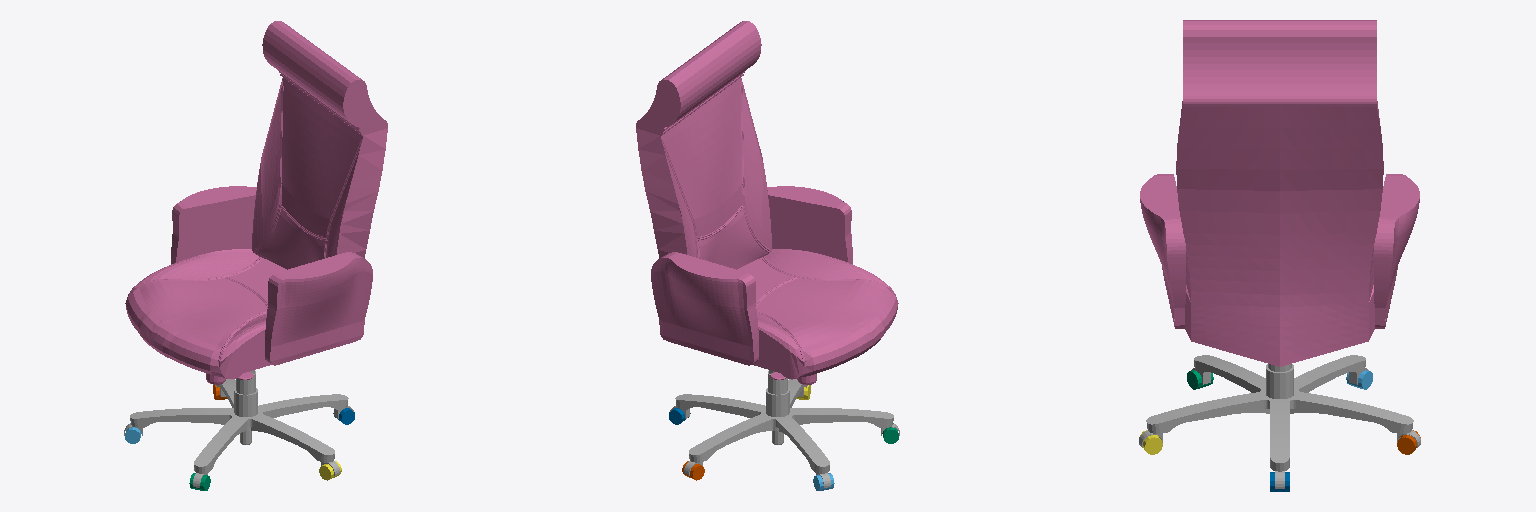
The robot description file, URDF, robot "partnet_22ae801d650a1e3d492d9da2668ec34c":
<?xml version="1.0" encoding="utf-8"?>
<robot name="partnet_22ae801d650a1e3d492d9da2668ec34c">
 <link name="base"/>
 <link name="link_0">
  <visual name="wheel-56">
   <origin xyz="0.34652284786575827 0.806945263874729 -0.4769284756405053"/>
   <geometry>
    <mesh filename="textured_objs/original-29.obj"/>
   </geometry>
  </visual>
  <collision>
   <geometry>
    <mesh filename="cvx_objs/link_0.obj"/>
   </geometry>
  </collision>
 </link>
 <joint name="joint_0" type="continuous">
  <origin xyz="-0.34652284786575827 -0.806945263874729 0.4769284756405053"/>
  <axis xyz="-0.809011250551875 6.90381693601011e-06 -0.5877931578649318"/>
  <child link="link_0"/>
  <parent link="link_6"/>
 </joint>
 <link name="link_1">
  <visual name="wheel-35">
   <origin xyz="-0.35026702881382443 0.8069443455694046 -0.48207817975971623"/>
   <geometry>
    <mesh filename="textured_objs/original-36.obj"/>
   </geometry>
  </visual>
  <collision>
   <geometry>
    <mesh filename="cvx_objs/link_1.obj"/>
   </geometry>
  </collision>
 </link>
 <joint name="joint_1" type="continuous">
  <origin xyz="0.35026702881382443 -0.8069443455694046 0.48207817975971623"/>
  <axis xyz="-0.8090172420051733 -1.7098029128681026e-05 0.587784911209875"/>
  <child link="link_1"/>
  <parent link="link_6"/>
 </joint>
 <link name="link_2">
  <visual name="wheel-32">
   <origin xyz="-0.40813013729370373 0.8069459999999999 0.13261478500573382"/>
   <geometry>
    <mesh filename="textured_objs/original-20.obj"/>
   </geometry>
  </visual>
  <collision>
   <geometry>
    <mesh filename="cvx_objs/link_2.obj"/>
   </geometry>
  </collision>
 </link>
 <joint name="joint_2" type="continuous">
  <origin xyz="0.40813013729370373 -0.8069459999999999 -0.13261478500573382"/>
  <axis xyz="-0.3090280998843664 -3.039844984141635e-16 -0.9510529078247215"/>
  <child link="link_2"/>
  <parent link="link_6"/>
 </joint>
 <link name="link_3">
  <visual name="wheel-29">
   <origin xyz="0 0.8069459999999999 0.31971099999999997"/>
   <geometry>
    <mesh filename="textured_objs/original-15.obj"/>
   </geometry>
  </visual>
  <collision>
   <geometry>
    <mesh filename="cvx_objs/link_3.obj"/>
   </geometry>
  </collision>
 </link>
 <joint name="joint_3" type="continuous">
  <origin xyz="0 -0.8069459999999999 -0.31971099999999997"/>
  <axis xyz="1 0 0"/>
  <child link="link_3"/>
  <parent link="link_6"/>
 </joint>
 <link name="link_4">
  <visual name="wheel-26">
   <origin xyz="0.3983387438320876 0.806946909866721 0.1294209976183839"/>
   <geometry>
    <mesh filename="textured_objs/original-16.obj"/>
   </geometry>
  </visual>
  <collision>
   <geometry>
    <mesh filename="cvx_objs/link_4.obj"/>
   </geometry>
  </collision>
 </link>
 <joint name="joint_4" type="continuous">
  <origin xyz="-0.3983387438320876 -0.806946909866721 -0.1294209976183839"/>
  <axis xyz="0.30902018894976174 -1.0121517192653198e-05 -0.9510554782550852"/>
  <child link="link_4"/>
  <parent link="link_6"/>
 </joint>
 <link name="link_5">
  <visual name="back_soft_surface-58">
   <origin xyz="-0.0054155 0 -0.1509095"/>
   <geometry>
    <mesh filename="textured_objs/new-7.obj"/>
   </geometry>
  </visual>
  <visual name="arm_sofa_style-49">
   <origin xyz="-0.0054155 0 -0.1509095"/>
   <geometry>
    <mesh filename="textured_objs/original-11.obj"/>
   </geometry>
  </visual>
  <visual name="arm_sofa_style-48">
   <origin xyz="-0.0054155 0 -0.1509095"/>
   <geometry>
    <mesh filename="textured_objs/original-12.obj"/>
   </geometry>
  </visual>
  <visual name="seat_soft_surface-47">
   <origin xyz="-0.0054155 0 -0.1509095"/>
   <geometry>
    <mesh filename="textured_objs/new-6.obj"/>
   </geometry>
  </visual>
  <visual name="seat_support-44">
   <origin xyz="-0.0054155 0 -0.1509095"/>
   <geometry>
    <mesh filename="textured_objs/original-2.obj"/>
   </geometry>
  </visual>
  <visual name="other_leaf-42">
   <origin xyz="-0.0054155 0 -0.1509095"/>
   <geometry>
    <mesh filename="textured_objs/original-33.obj"/>
   </geometry>
  </visual>
  <visual name="other_leaf-42">
   <origin xyz="-0.0054155 0 -0.1509095"/>
   <geometry>
    <mesh filename="textured_objs/original-34.obj"/>
   </geometry>
  </visual>
  <visual name="other_leaf-41">
   <origin xyz="-0.0054155 0 -0.1509095"/>
   <geometry>
    <mesh filename="textured_objs/original-26.obj"/>
   </geometry>
  </visual>
  <visual name="other_leaf-41">
   <origin xyz="-0.0054155 0 -0.1509095"/>
   <geometry>
    <mesh filename="textured_objs/original-27.obj"/>
   </geometry>
  </visual>
  <visual name="other_leaf-46">
   <origin xyz="-0.0054155 0 -0.1509095"/>
   <geometry>
    <mesh filename="textured_objs/original-23.obj"/>
   </geometry>
  </visual>
  <collision>
   <geometry>
    <mesh filename="cvx_objs/link_5.obj"/>
   </geometry>
  </collision>
 </link>
 <joint name="joint_5" type="continuous">
  <origin xyz="0.0 0 0.0"/>
  <axis xyz="0 1 0"/>
  <child link="link_5"/>
  <parent link="link_5_helper"/>
 </joint>
 <link name="link_6">
  <visual name="central_support-8">
   <origin xyz="0 0 0"/>
   <geometry>
    <mesh filename="textured_objs/original-3.obj"/>
   </geometry>
  </visual>
  <visual name="central_support-8">
   <origin xyz="0 0 0"/>
   <geometry>
    <mesh filename="textured_objs/original-9.obj"/>
   </geometry>
  </visual>
  <visual name="central_support-8">
   <origin xyz="0 0 0"/>
   <geometry>
    <mesh filename="textured_objs/new-5.obj"/>
   </geometry>
  </visual>
  <visual name="leg-10">
   <origin xyz="0 0 0"/>
   <geometry>
    <mesh filename="textured_objs/new-4.obj"/>
   </geometry>
  </visual>
  <visual name="leg-10">
   <origin xyz="0 0 0"/>
   <geometry>
    <mesh filename="textured_objs/original-8.obj"/>
   </geometry>
  </visual>
  <visual name="leg-10">
   <origin xyz="0 0 0"/>
   <geometry>
    <mesh filename="textured_objs/original-10.obj"/>
   </geometry>
  </visual>
  <visual name="leg-11">
   <origin xyz="0 0 0"/>
   <geometry>
    <mesh filename="textured_objs/new-3.obj"/>
   </geometry>
  </visual>
  <visual name="leg-11">
   <origin xyz="0 0 0"/>
   <geometry>
    <mesh filename="textured_objs/original-25.obj"/>
   </geometry>
  </visual>
  <visual name="leg-11">
   <origin xyz="0 0 0"/>
   <geometry>
    <mesh filename="textured_objs/original-24.obj"/>
   </geometry>
  </visual>
  <visual name="leg-12">
   <origin xyz="0 0 0"/>
   <geometry>
    <mesh filename="textured_objs/new-2.obj"/>
   </geometry>
  </visual>
  <visual name="leg-12">
   <origin xyz="0 0 0"/>
   <geometry>
    <mesh filename="textured_objs/original-32.obj"/>
   </geometry>
  </visual>
  <visual name="leg-12">
   <origin xyz="0 0 0"/>
   <geometry>
    <mesh filename="textured_objs/original-31.obj"/>
   </geometry>
  </visual>
  <visual name="leg-13">
   <origin xyz="0 0 0"/>
   <geometry>
    <mesh filename="textured_objs/new-1.obj"/>
   </geometry>
  </visual>
  <visual name="leg-13">
   <origin xyz="0 0 0"/>
   <geometry>
    <mesh filename="textured_objs/original-5.obj"/>
   </geometry>
  </visual>
  <visual name="leg-13">
   <origin xyz="0 0 0"/>
   <geometry>
    <mesh filename="textured_objs/original-6.obj"/>
   </geometry>
  </visual>
  <visual name="leg-14">
   <origin xyz="0 0 0"/>
   <geometry>
    <mesh filename="textured_objs/new-0.obj"/>
   </geometry>
  </visual>
  <visual name="leg-14">
   <origin xyz="0 0 0"/>
   <geometry>
    <mesh filename="textured_objs/original-19.obj"/>
   </geometry>
  </visual>
  <visual name="leg-14">
   <origin xyz="0 0 0"/>
   <geometry>
    <mesh filename="textured_objs/original-7.obj"/>
   </geometry>
  </visual>
  <visual name="caster_yoke-54">
   <origin xyz="0 0 0"/>
   <geometry>
    <mesh filename="textured_objs/original-28.obj"/>
   </geometry>
  </visual>
  <visual name="caster_stem-57">
   <origin xyz="0 0 0"/>
   <geometry>
    <mesh filename="textured_objs/original-30.obj"/>
   </geometry>
  </visual>
  <visual name="caster_yoke-33">
   <origin xyz="0 0 0"/>
   <geometry>
    <mesh filename="textured_objs/original-35.obj"/>
   </geometry>
  </visual>
  <visual name="caster_stem-34">
   <origin xyz="0 0 0"/>
   <geometry>
    <mesh filename="textured_objs/original-37.obj"/>
   </geometry>
  </visual>
  <visual name="caster_yoke-30">
   <origin xyz="0 0 0"/>
   <geometry>
    <mesh filename="textured_objs/original-21.obj"/>
   </geometry>
  </visual>
  <visual name="caster_stem-31">
   <origin xyz="0 0 0"/>
   <geometry>
    <mesh filename="textured_objs/original-22.obj"/>
   </geometry>
  </visual>
  <visual name="caster_yoke-27">
   <origin xyz="0 0 0"/>
   <geometry>
    <mesh filename="textured_objs/original-13.obj"/>
   </geometry>
  </visual>
  <visual name="caster_stem-28">
   <origin xyz="0 0 0"/>
   <geometry>
    <mesh filename="textured_objs/original-14.obj"/>
   </geometry>
  </visual>
  <visual name="caster_yoke-24">
   <origin xyz="0 0 0"/>
   <geometry>
    <mesh filename="textured_objs/original-17.obj"/>
   </geometry>
  </visual>
  <visual name="caster_stem-25">
   <origin xyz="0 0 0"/>
   <geometry>
    <mesh filename="textured_objs/original-18.obj"/>
   </geometry>
  </visual>
  <collision>
   <geometry>
    <mesh filename="cvx_objs/link_6.obj"/>
   </geometry>
  </collision>
 </link>
 <joint name="joint_6" type="fixed">
  <origin rpy="1.570796326794897 0 -1.570796326794897" xyz="0 0 0"/>
  <child link="link_6"/>
  <parent link="base"/>
 </joint>
 <link name="link_5_helper"/>
 <joint name="joint_7" type="prismatic">
  <origin xyz="0.0054155 0 0.1509095"/>
  <axis xyz="0 -1 0"/>
  <child link="link_5_helper"/>
  <parent link="link_6"/>
  <limit lower="0" upper="0.1"/>
 </joint>
</robot>

--- Render facts (derived) ---
The picture shows the robot from 3 angles, left to right: view 1: azimuth 30°, elevation 25°; view 2: azimuth 150°, elevation 25°; view 3: azimuth 270°, elevation 25°; orthographic projection.
Model partnet_22ae801d650a1e3d492d9da2668ec34c with 9 links and 8 joints (6 continuous, 1 prismatic, 1 fixed), rooted at base, posed every joint at zero.
Visible links, largest first — view 1: link_5, link_6; view 2: link_5, link_6; view 3: link_5, link_6.
Boxes of the visible links, x1=… form: link_5: x1=125, y1=21, x2=387, y2=384; link_6: x1=124, y1=370, x2=353, y2=487; link_5: x1=636, y1=21, x2=898, y2=384; link_6: x1=670, y1=370, x2=899, y2=487; link_5: x1=1140, y1=20, x2=1419, y2=366; link_6: x1=1139, y1=355, x2=1420, y2=488.
Size in the robot's own frame: 0.9709 by 0.9803 by 1.73 metres.
Meshes: 43 distinct files referenced, 43 mesh visuals loaded (43 OBJ).
